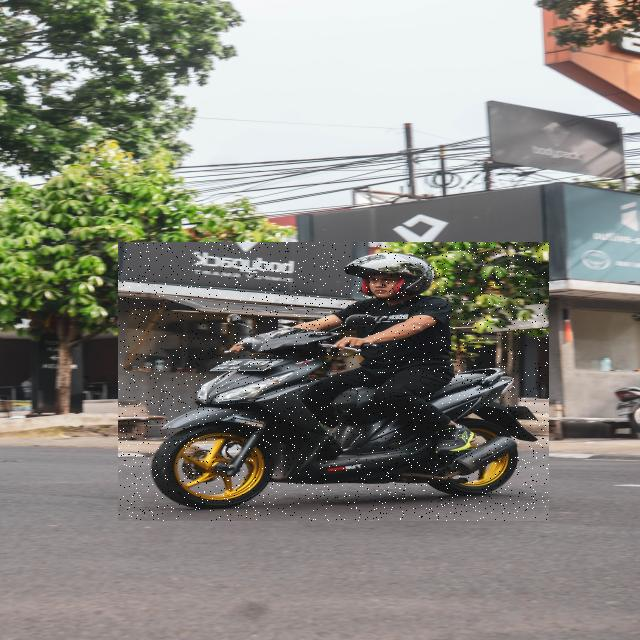With Helmet: (118, 242, 549, 521)
